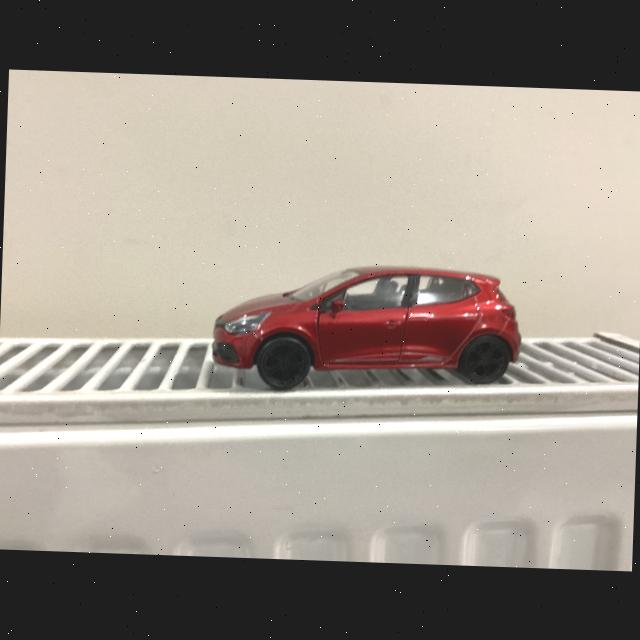Dogru_Jant: (265, 344, 306, 386), (466, 340, 502, 377)
